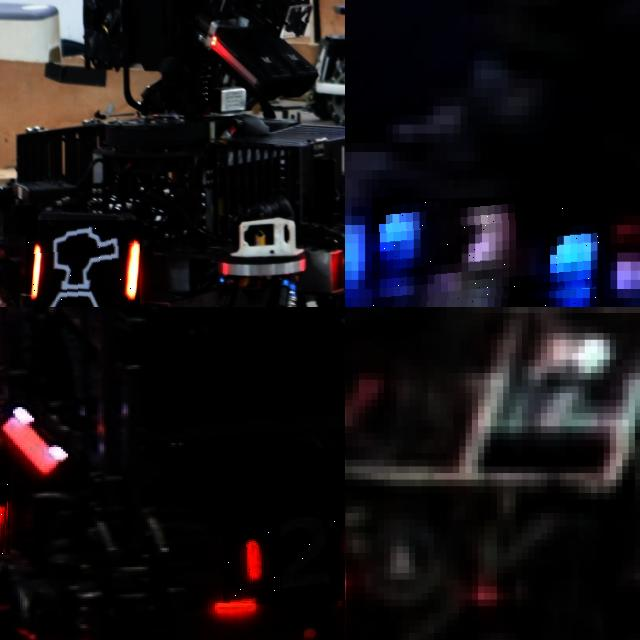B1: (372, 197, 603, 307)
R2: (223, 515, 345, 603)
Rs: (26, 220, 139, 307)
